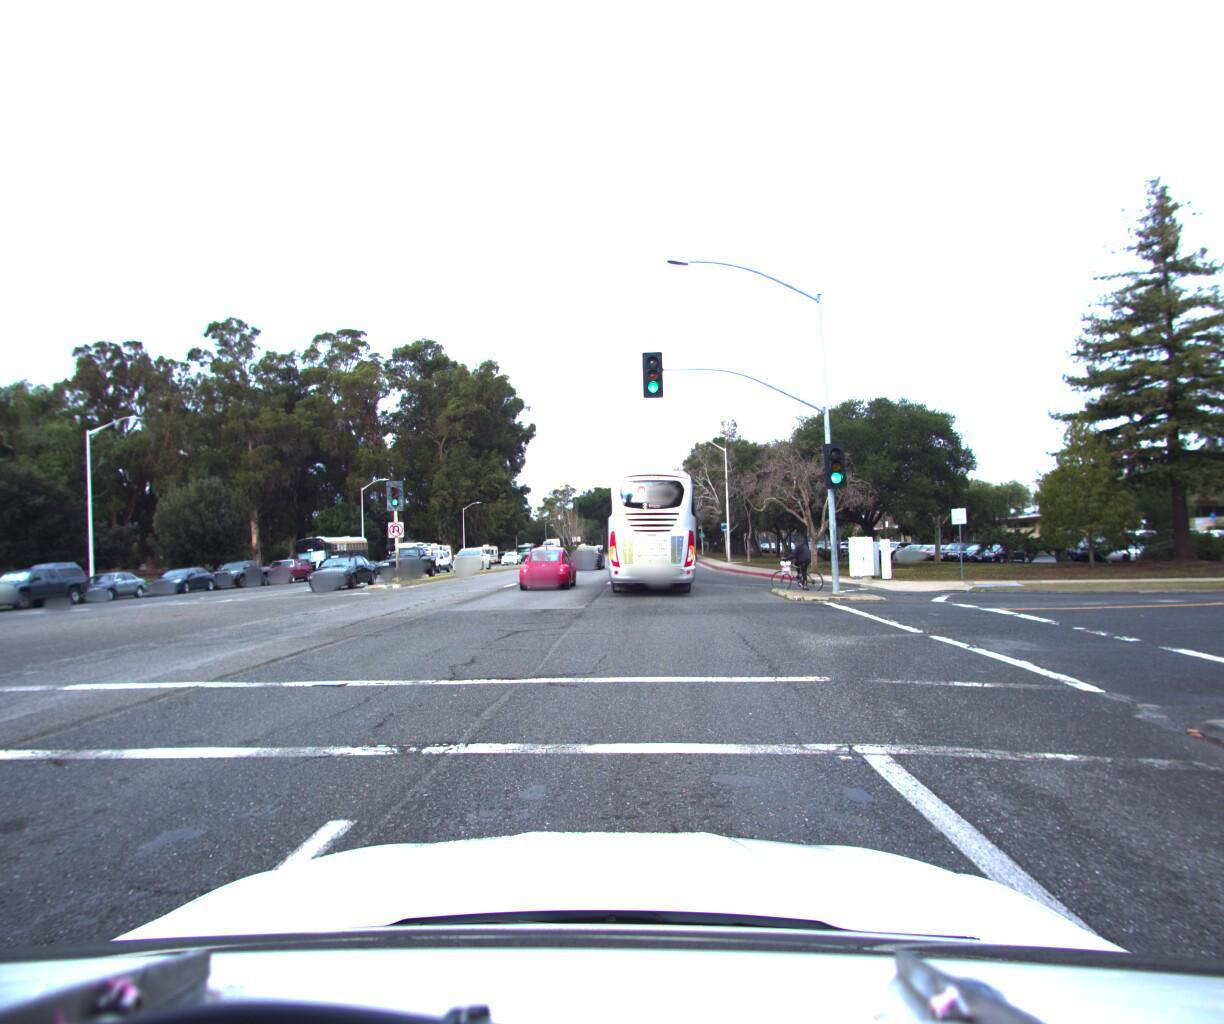bicycle: (766, 528, 821, 590)
bus: (599, 462, 711, 601), (293, 528, 371, 580)
car: (297, 544, 384, 590), (57, 566, 157, 604), (516, 540, 580, 590), (141, 561, 222, 593), (201, 554, 276, 588), (375, 540, 442, 577), (257, 552, 315, 584), (449, 540, 494, 567), (409, 543, 453, 570), (568, 540, 604, 566)
